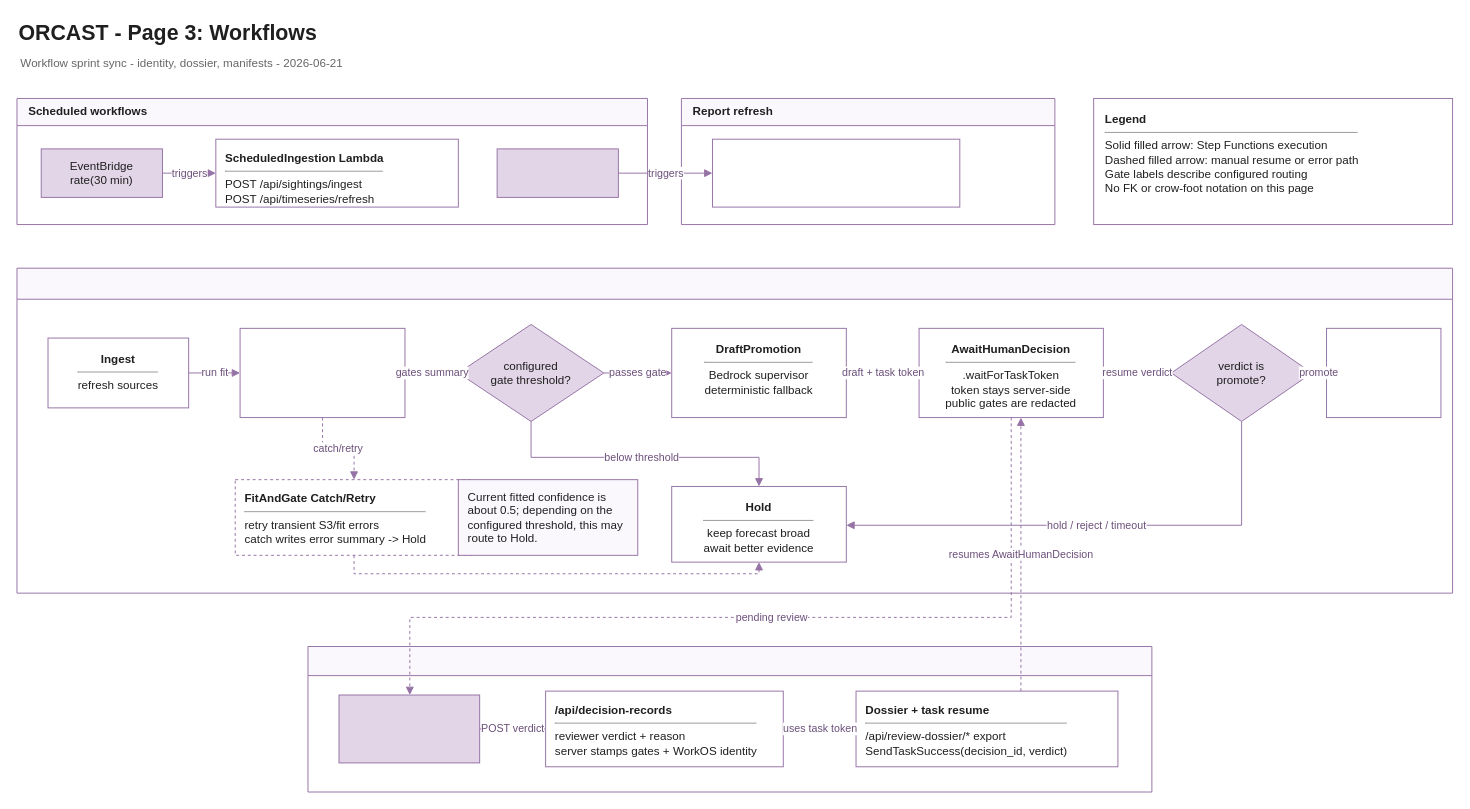
Some shapes in this 1470 by 809 pixel diagram are drawn without their labels. Each missing label, with the box of its shape:
ApplyPromotion requires decision_id writes promotion marker: (1326, 327, 1441, 418)
EventBridge rate(1 hour): (496, 148, 618, 197)
FitAndGate fit_plan + snap_id NB fit + gates repr_id + run_id: (239, 327, 405, 418)
Manual reviewer path: (307, 646, 1152, 792)
Reviewer UI WorkOS session /gates + /decisions: (338, 694, 480, 763)
ScheduledReport Lambda recompute hotspots write latest report artifact: (711, 138, 960, 207)
Step Functions: forecast-orchestrator: (16, 267, 1453, 593)
